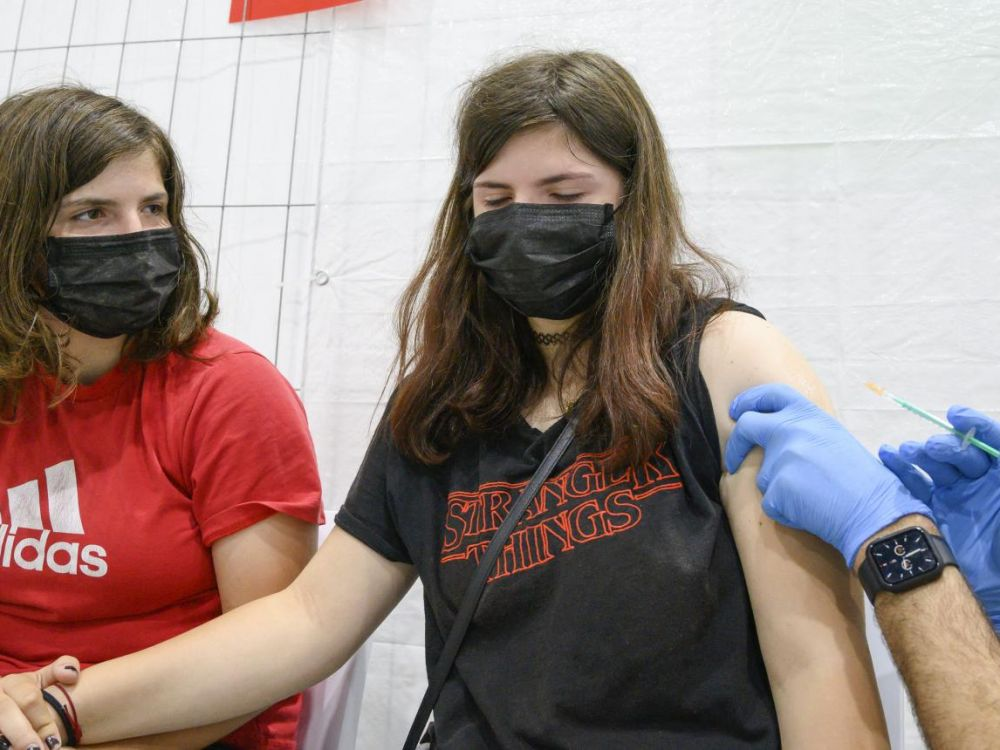with_mask: (453, 129, 635, 303), (26, 166, 194, 335)
